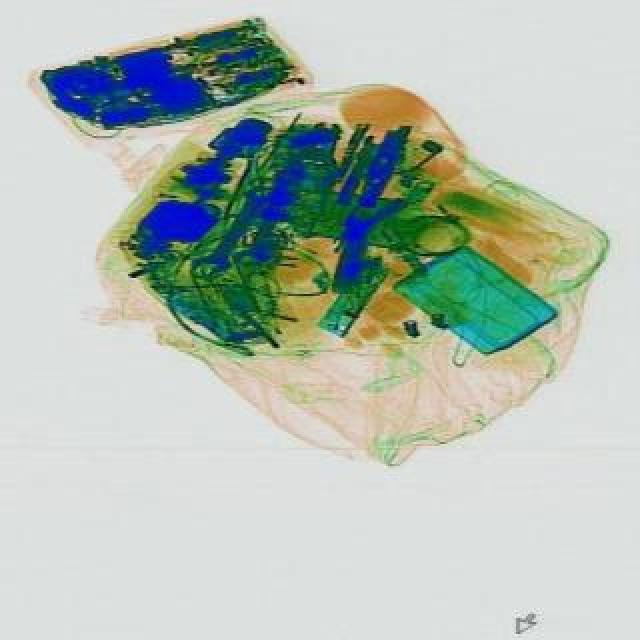scissors: (186, 180, 274, 284), (230, 170, 300, 276)
